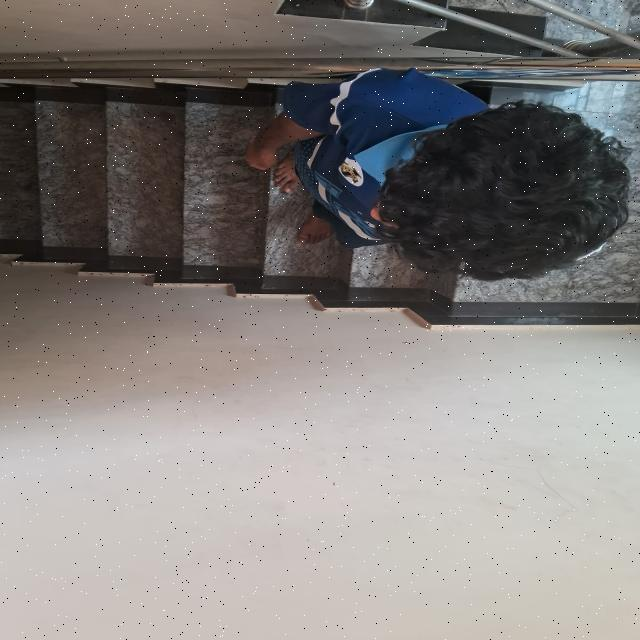humans: (216, 76, 635, 293)
